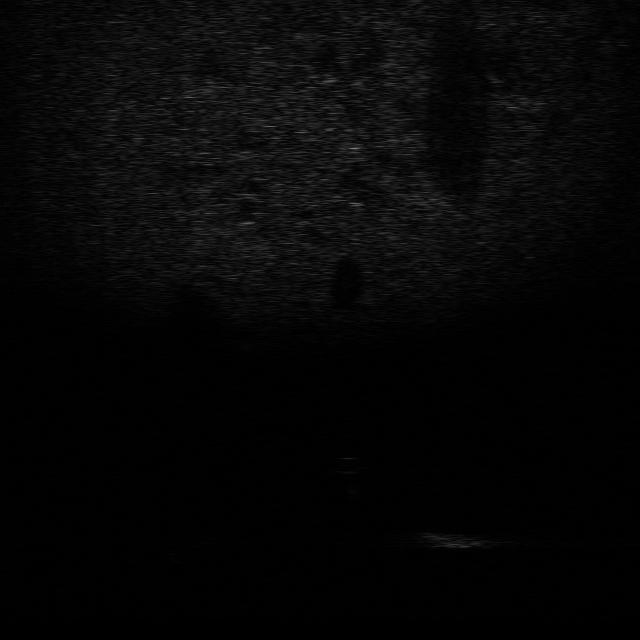ball: (324, 455, 370, 477)
metal bucket: (392, 526, 498, 553)
tyre: (166, 540, 209, 567)
